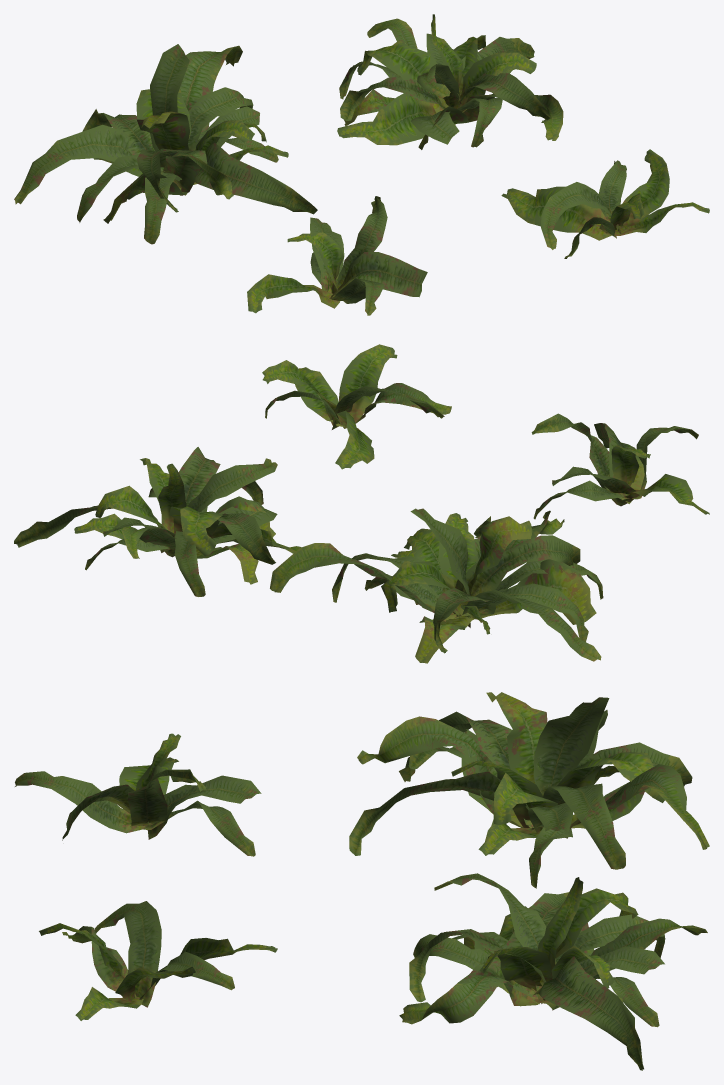
File: fern_02_lod1.glb
3 renders of one model, top to bottom at view 1: azimuth 30°, elevation 25°; view 2: azimuth 150°, elevation 25°; view 3: azimuth 270°, elevation 25°, orthographic. The views are drawn at different scales.
Visible parts, largest first — view 1: fern_02_b, fern_02_c, fern_02_d, fern_02_a; view 2: fern_02_b, fern_02_c, fern_02_d, fern_02_a; view 3: fern_02_b, fern_02_c, fern_02_a, fern_02_d.
Part boxes in pixels (<box>): fern_02_b: <box>14,44,317,244</box>; fern_02_c: <box>337,14,563,149</box>; fern_02_d: <box>501,149,709,258</box>; fern_02_a: <box>247,196,427,315</box>; fern_02_b: <box>270,508,603,663</box>; fern_02_c: <box>14,447,301,596</box>; fern_02_d: <box>262,344,451,469</box>; fern_02_a: <box>531,413,709,519</box>; fern_02_b: <box>349,692,709,888</box>; fern_02_c: <box>399,873,707,1070</box>; fern_02_a: <box>15,733,261,856</box>; fern_02_d: <box>39,901,277,1020</box>.
Bounding box in the file's own units: 1.97 × 0.4277 × 1.72.
1 material, 1 textured.
